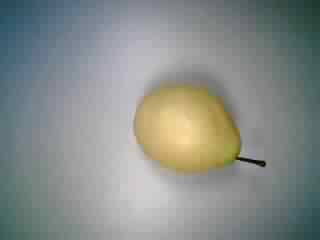pear: (126, 75, 272, 187)
